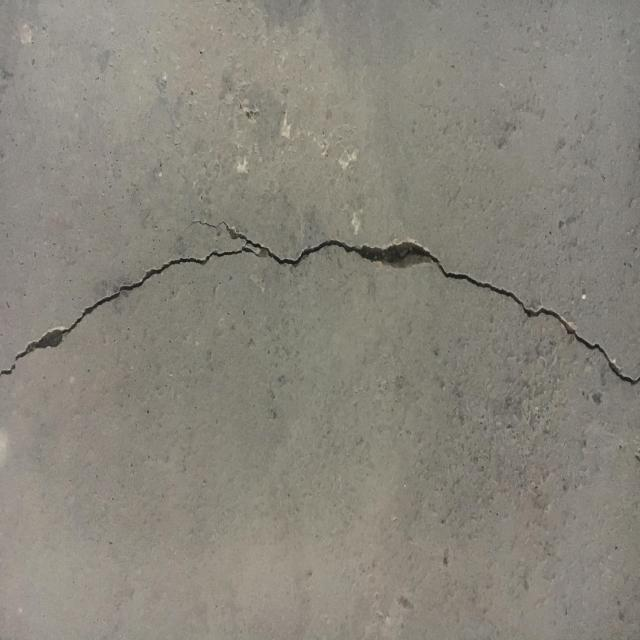Rachadura: (0, 219, 640, 391)
